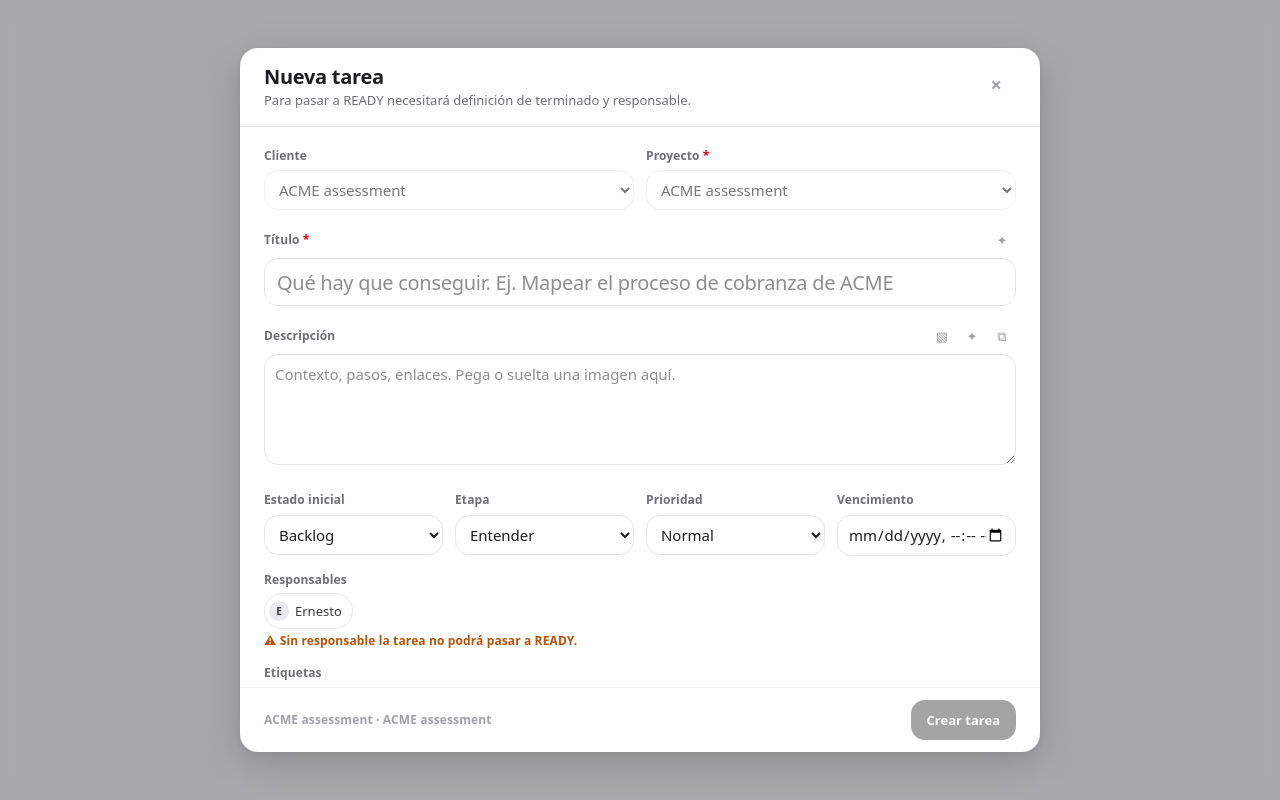
Scenario: CreateTaskDialog (render) › un título de 1 carácter muestra el error en línea y deshabilita el envío
Replace the text in the field with test id "new-task-title" with "a": coordinates (640, 282) [264,258,1016,306]
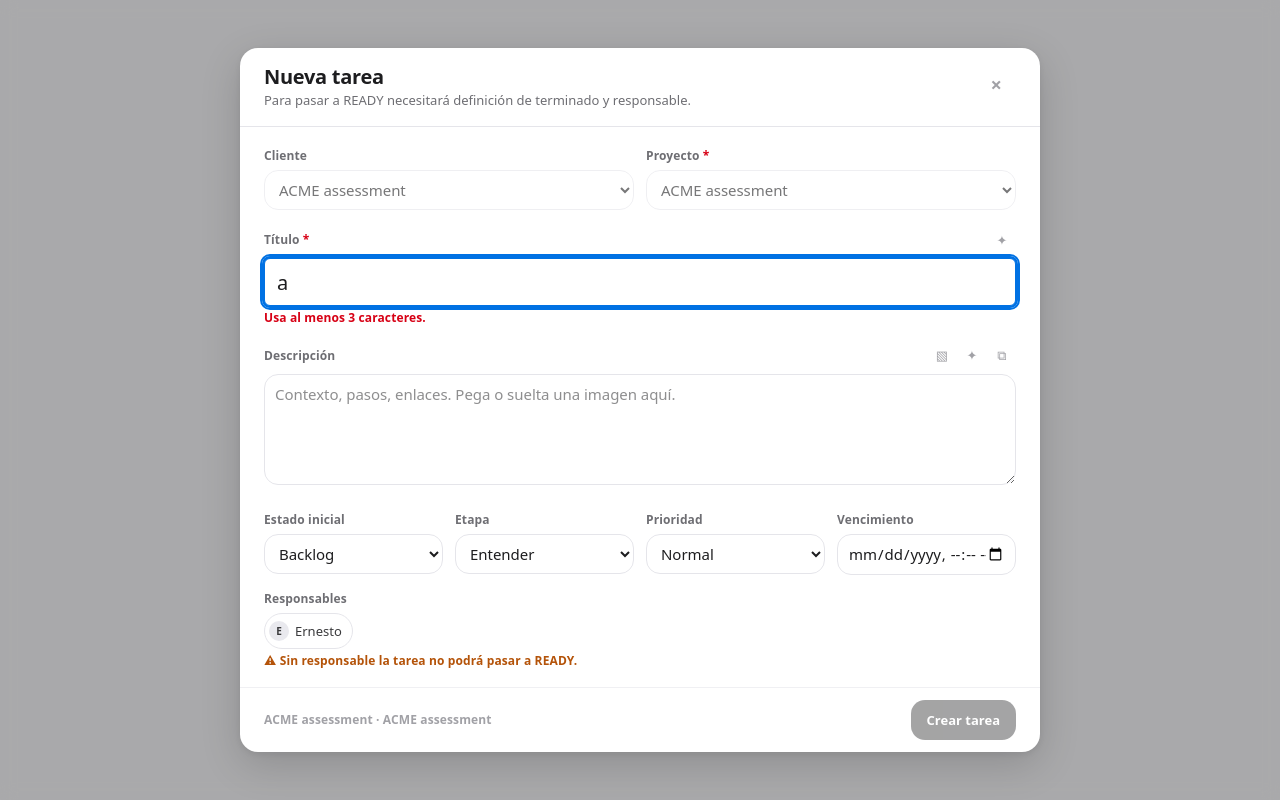
Expected: the button with test id "new-task-submit" is disabled, [911,700,1016,740]
Now the message shows "al menos 3 caracteres", box [264,309,426,326]
